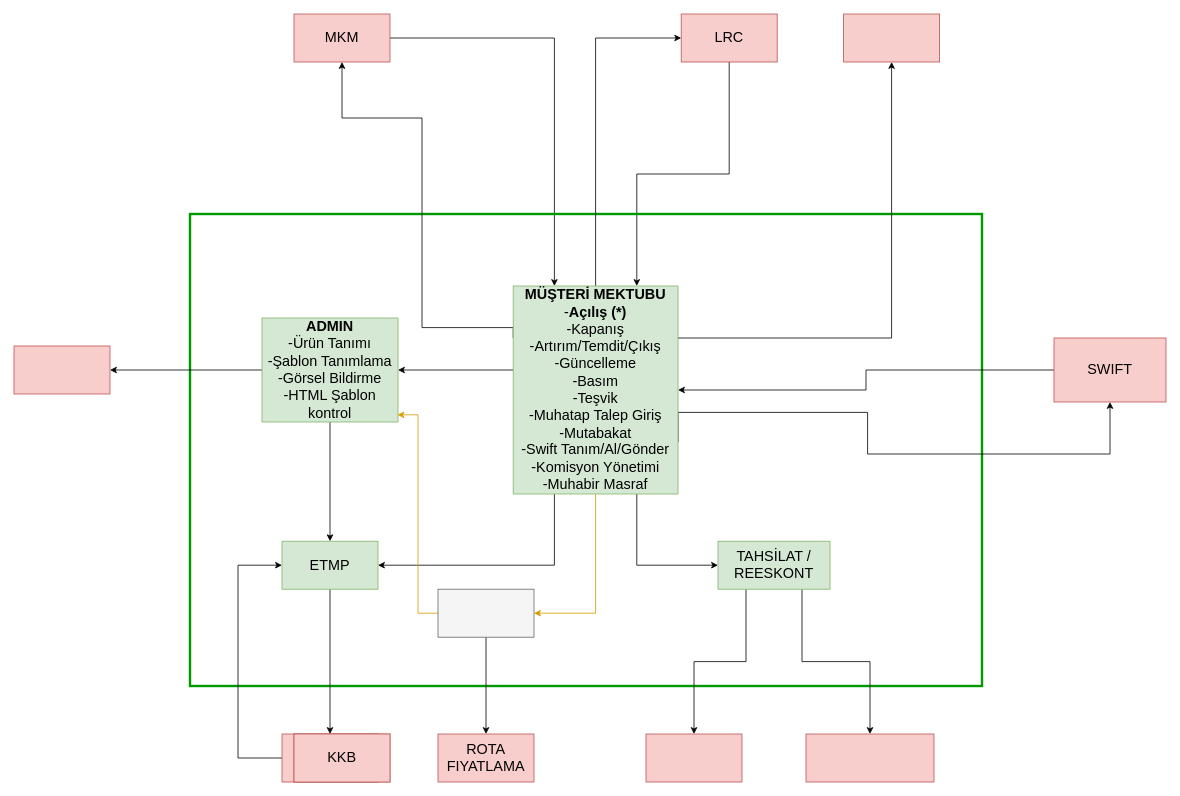
Image size: 1180x796. Some labels were removed from this diagram. The centre of each missing label's shape, as x and y in pixels:
DYS: the point at 61,369
FİYATLAMA: the point at 485,612
İŞ AKIŞLARI: the point at 891,37
MIS: the point at 693,757
PROVIZYON / MUHASEBE: the point at 869,757
